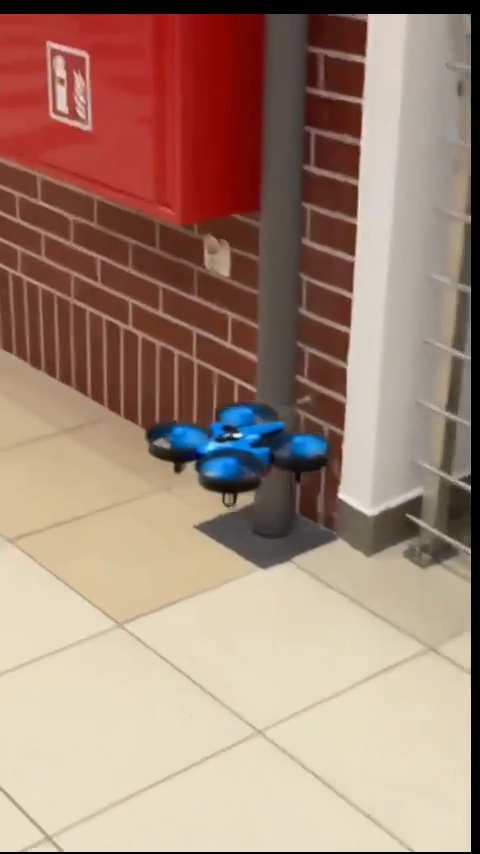drone: (141, 404, 326, 506)
